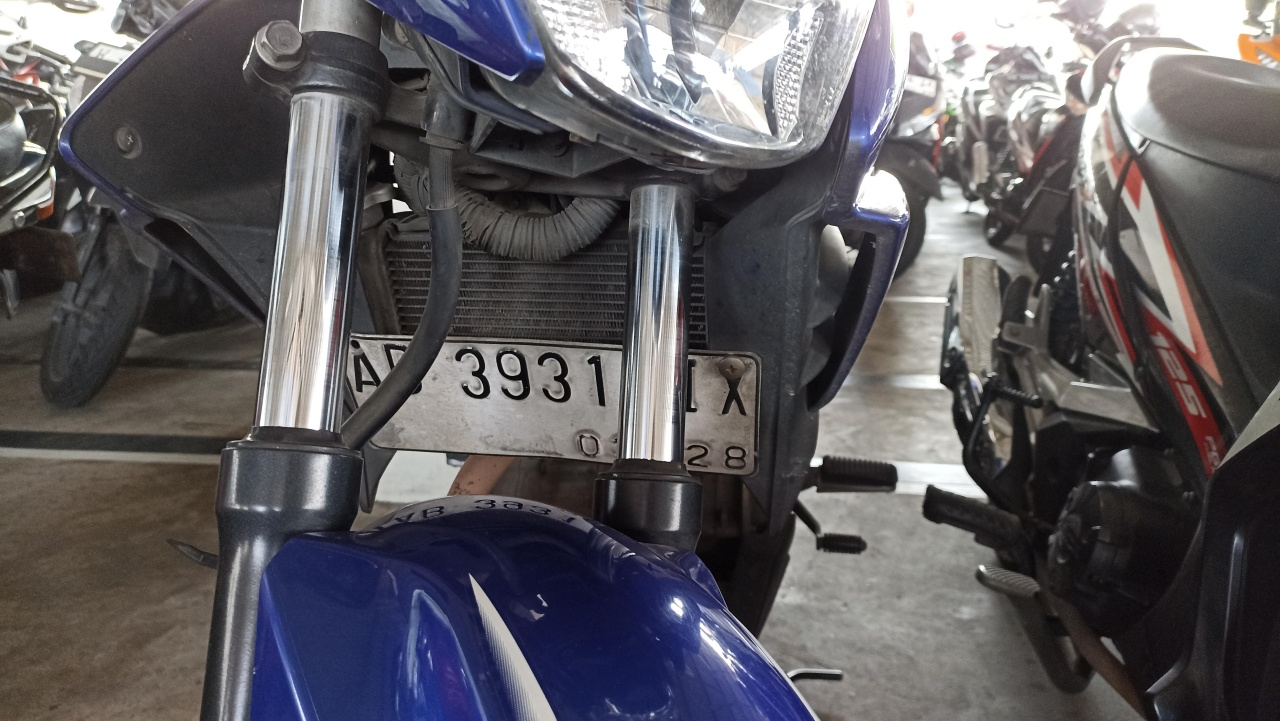plate: (333, 341, 763, 472)
